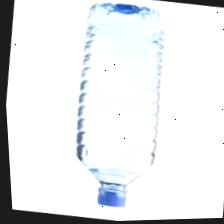plastic: (74, 3, 163, 207)
